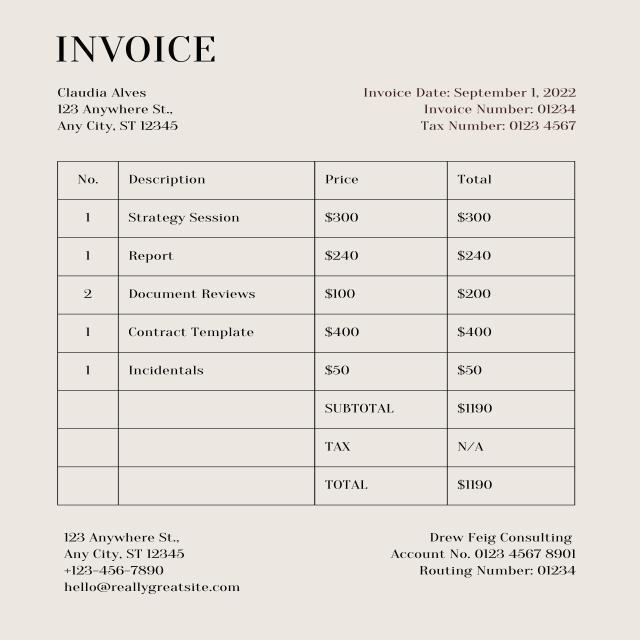ROI: (57, 154, 587, 381), (301, 389, 591, 506), (56, 526, 251, 617), (389, 526, 582, 602), (357, 82, 602, 139), (46, 81, 200, 141), (44, 27, 243, 68)
